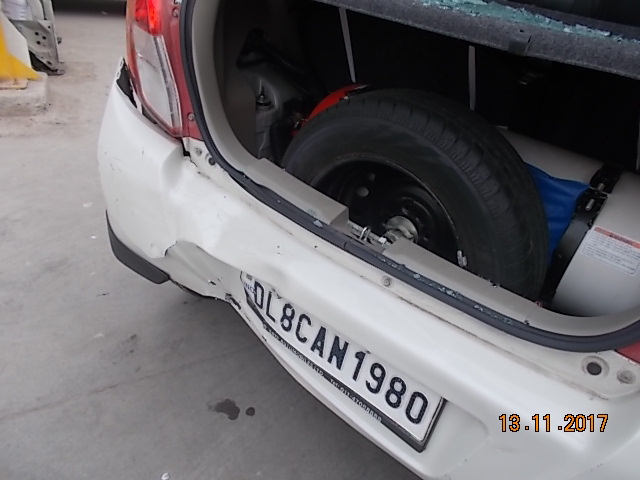Dent: (158, 218, 237, 292)
